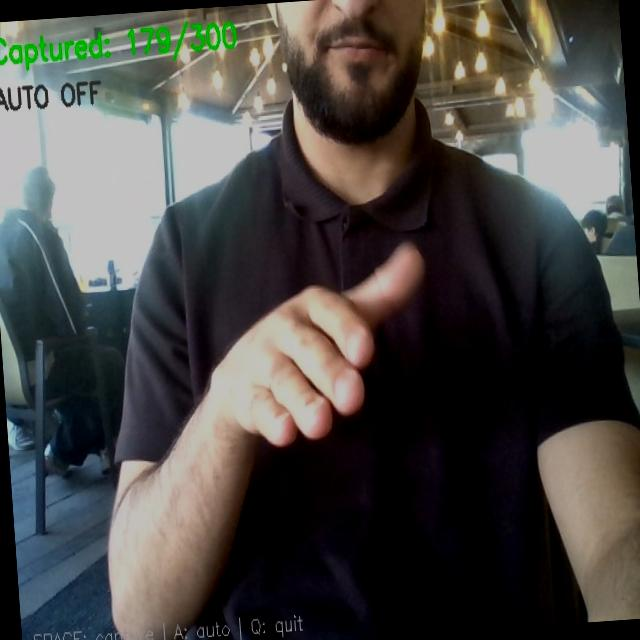Hand: (210, 244, 423, 446)
